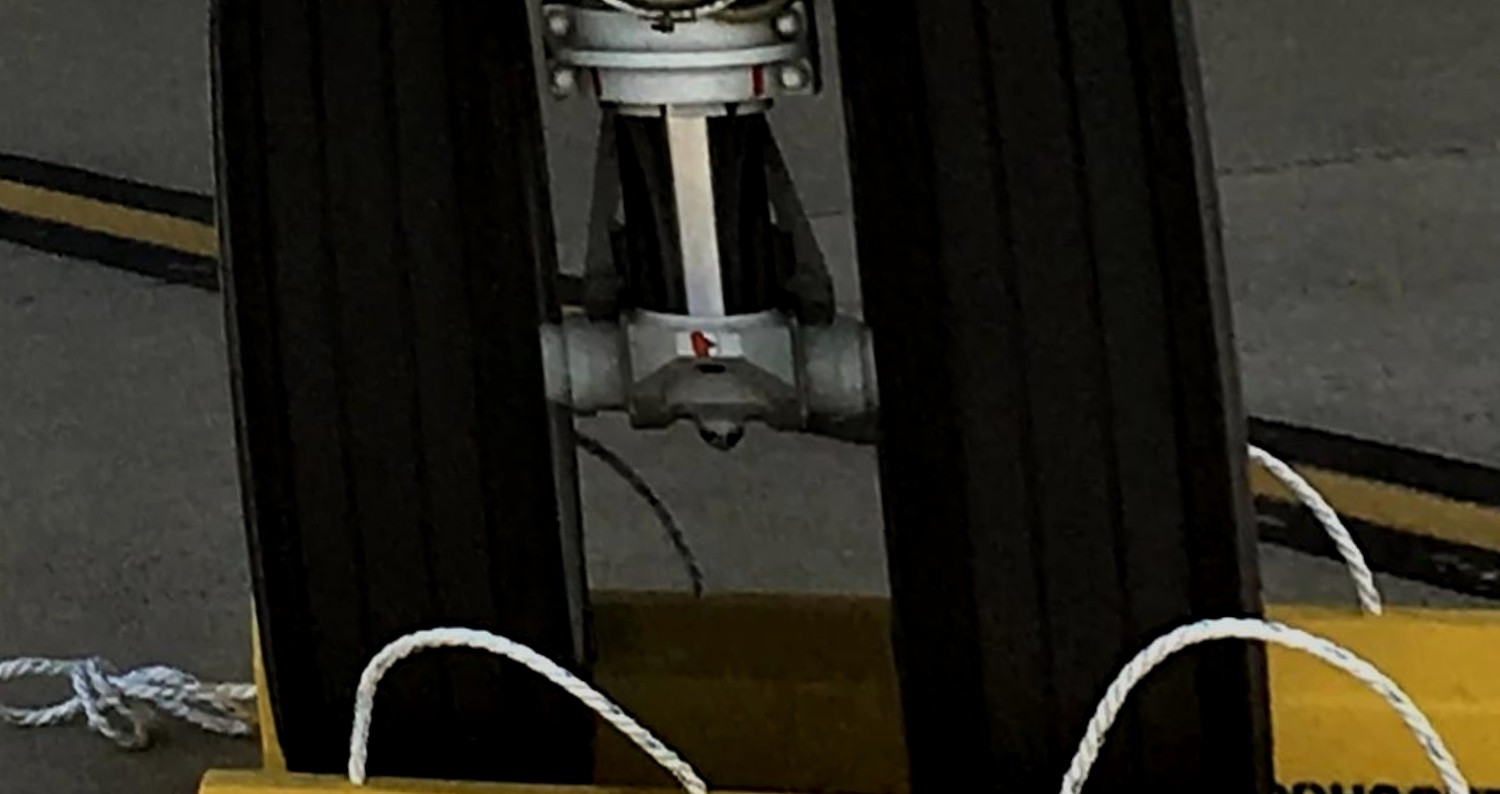chock: (212, 575, 1500, 794)
wheel: (796, 0, 1318, 794), (160, 0, 642, 787)
